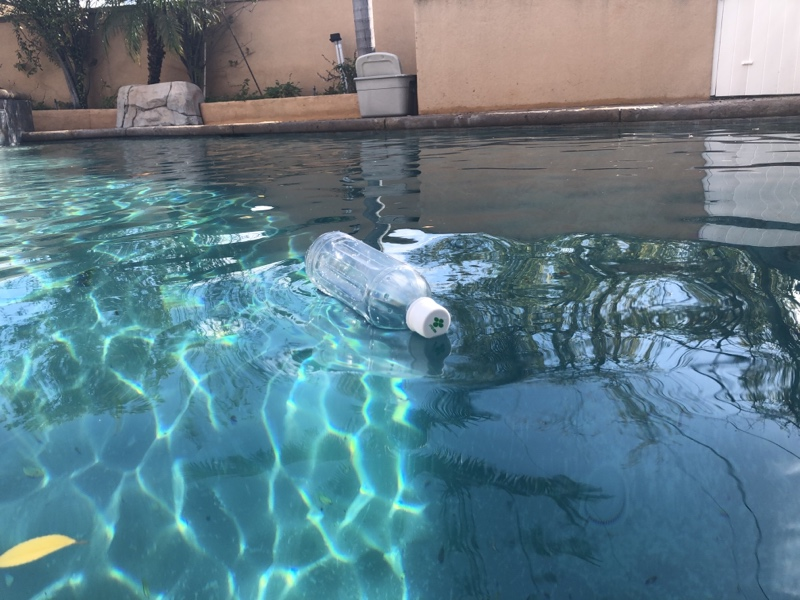Plastic Bottle: (301, 232, 451, 340)
